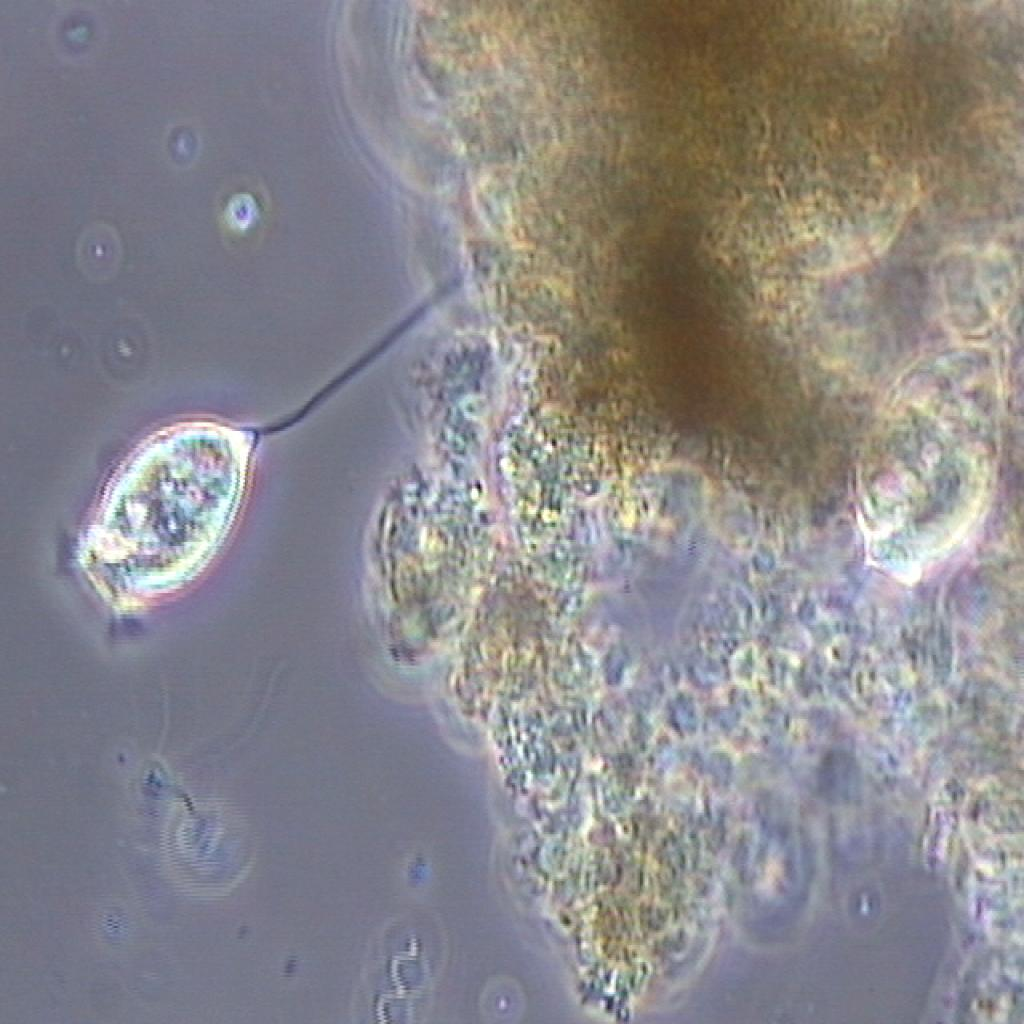Vorticella: (12, 285, 442, 639)
